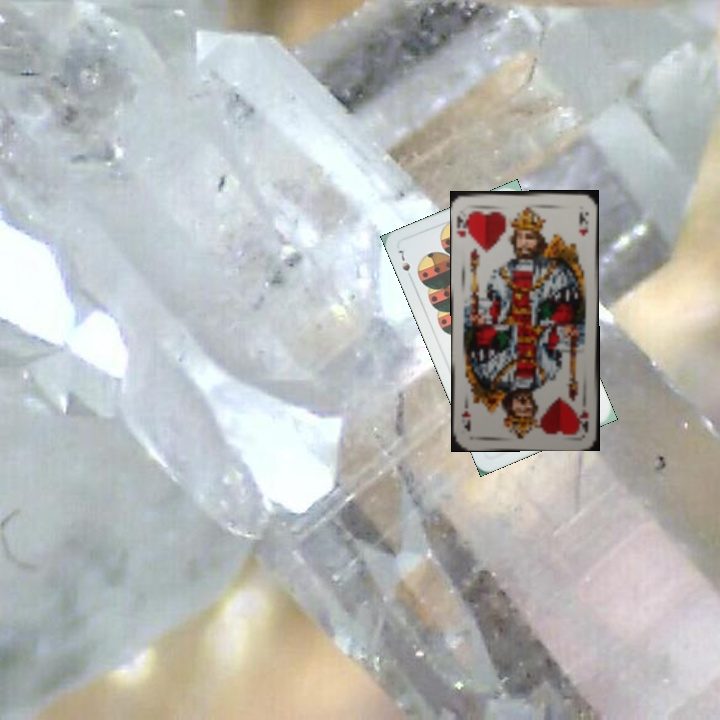HK: (453, 209, 473, 240), (575, 405, 591, 434)
S7: (394, 246, 413, 274)
